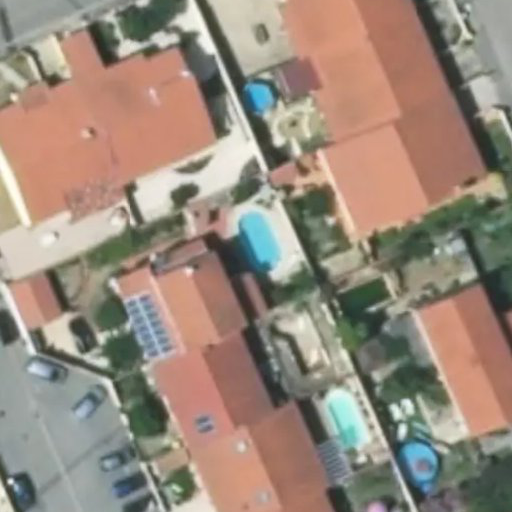pool: (229, 220, 282, 263)
